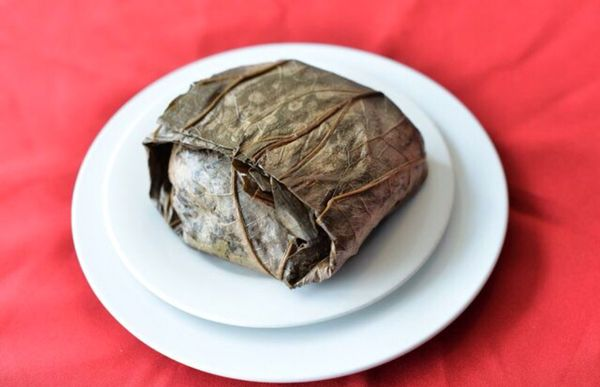curry: (1, 0, 569, 384)
